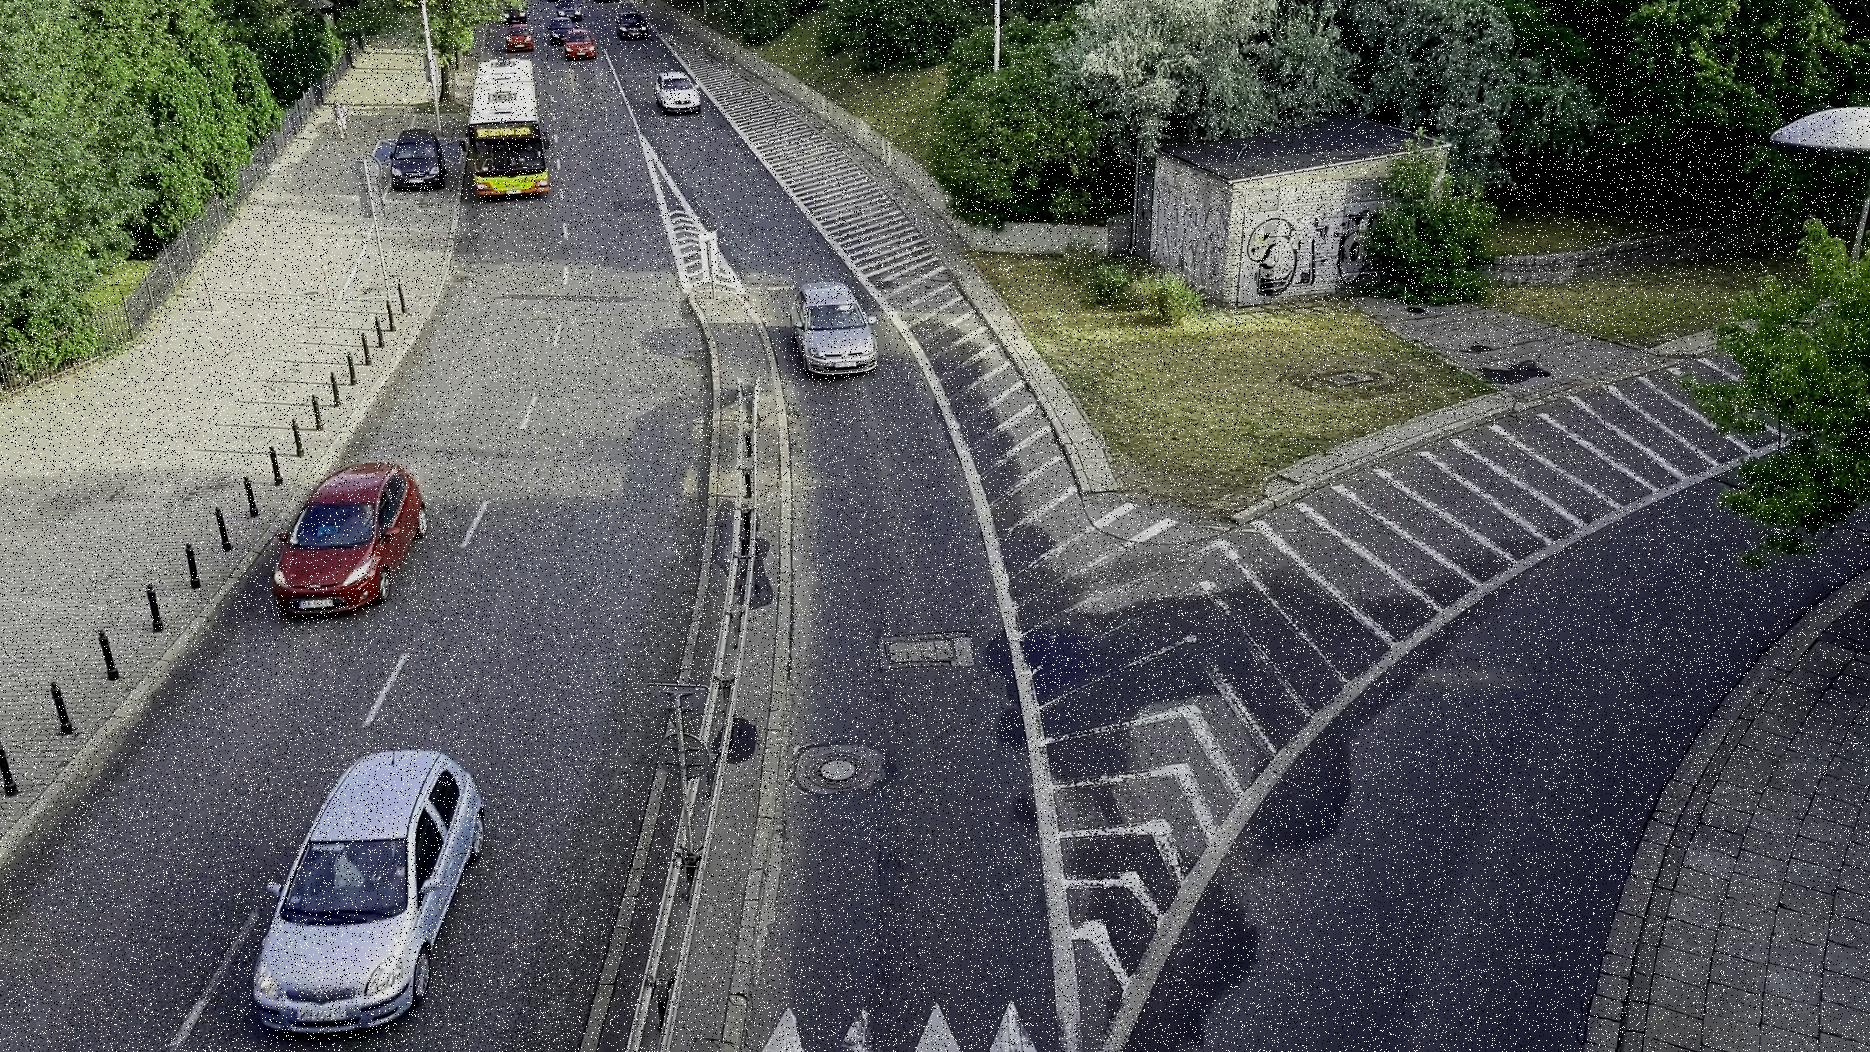bus: (466, 48, 550, 203)
car: (245, 739, 497, 1031), (261, 459, 438, 618), (776, 275, 894, 384), (388, 119, 446, 194), (654, 66, 703, 114), (559, 23, 597, 63), (503, 15, 533, 55), (613, 10, 646, 40)
